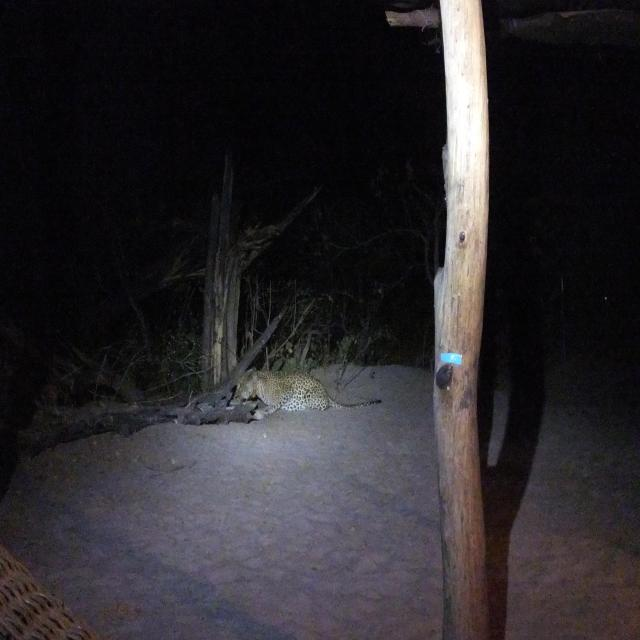Leopard: (233, 376, 379, 426)
